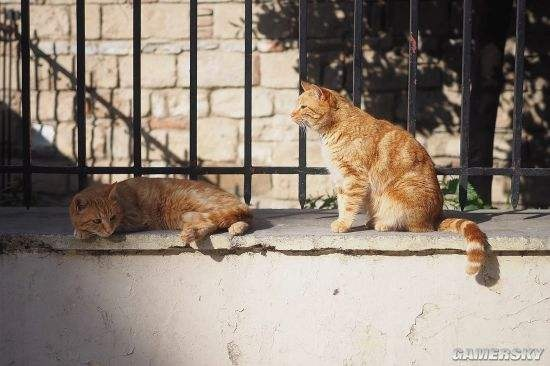cat: (290, 79, 487, 276), (70, 176, 252, 242)
